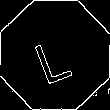L_N: (31, 26, 79, 84)
